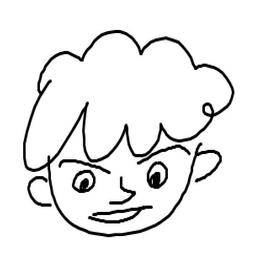ear: (189, 148, 227, 185), (23, 174, 55, 210)
eye: (142, 162, 172, 192), (67, 169, 96, 196)
frowning_eyebrow: (135, 143, 198, 165), (55, 157, 111, 175)
nose: (107, 175, 138, 205)
open_mouth: (83, 206, 152, 229)
